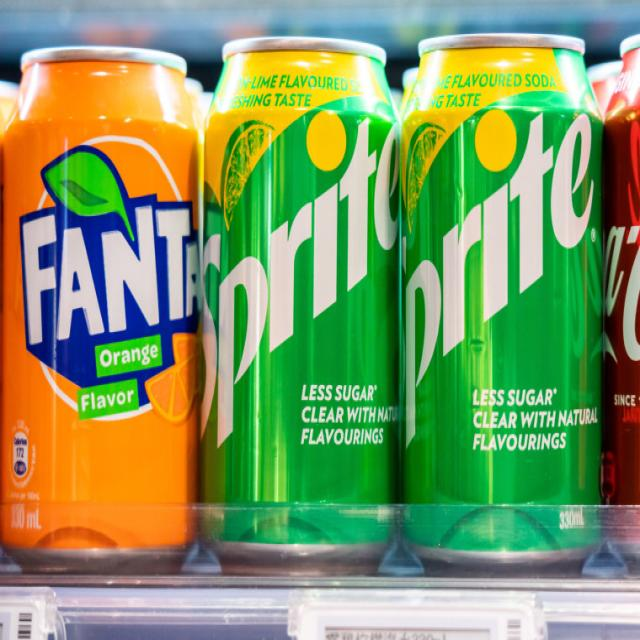fanta: (0, 20, 201, 566)
sprite: (206, 38, 411, 578), (406, 28, 599, 576)
